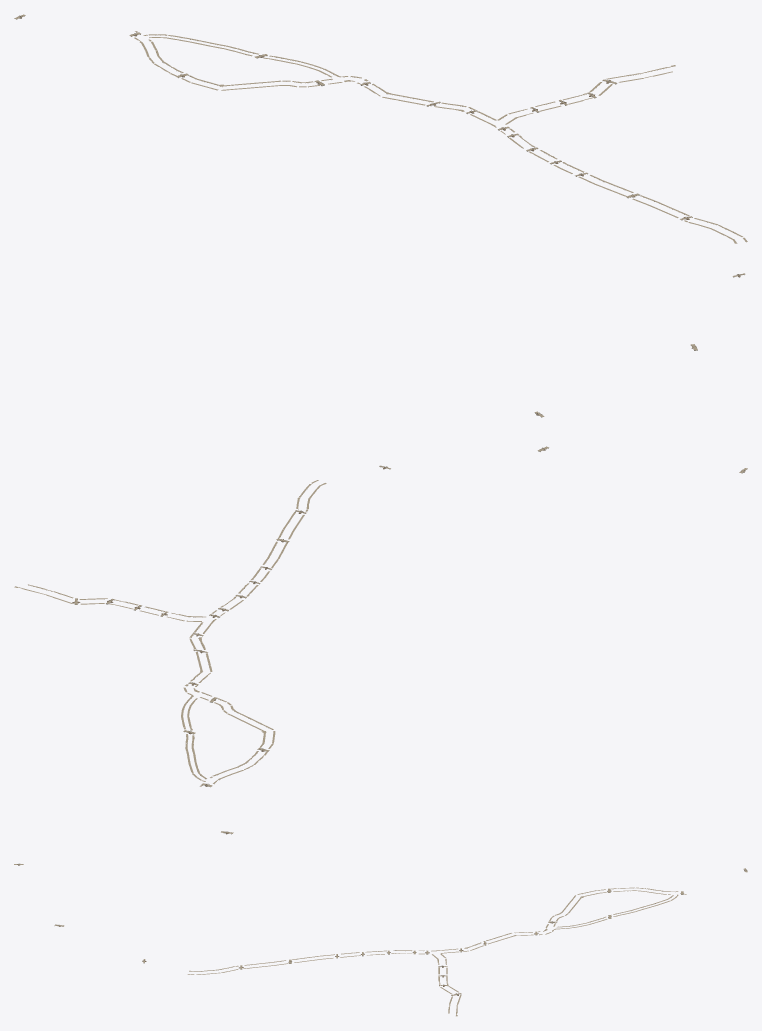
File: bridges.glb
3 views of the same model, one above another, from view 1: azimuth 30°, elevation 25°; view 2: azimuth 150°, elevation 25°; view 3: azimuth 270°, elevation 25° (orthographic). The views are drawn at different scales.
Size of the model in its own units: 3965 by 15.55 by 8062.
4 materials, 2 textured.
